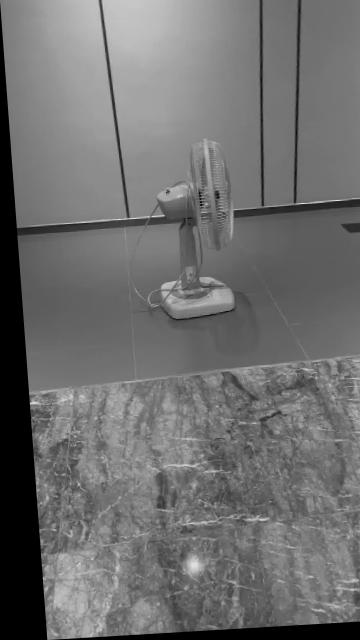Fan: (153, 142, 230, 322)
